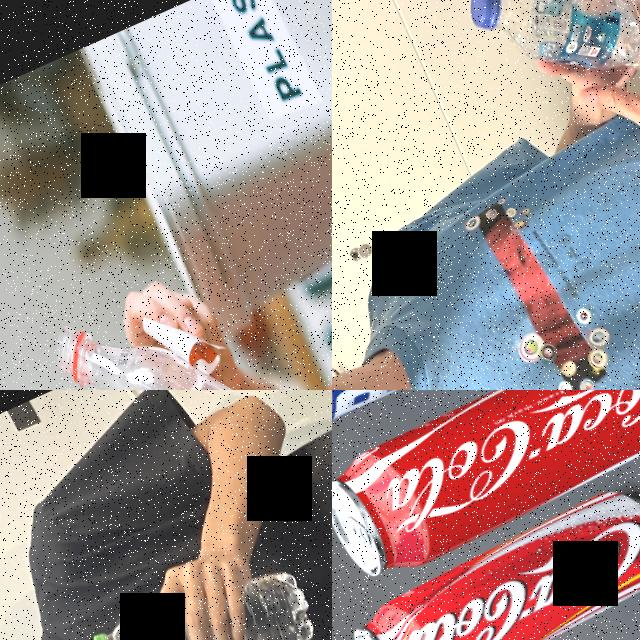bottle: (43, 229, 332, 390), (72, 533, 318, 640), (458, 0, 640, 131)
can: (332, 390, 640, 585), (335, 464, 640, 640), (332, 390, 640, 449)
